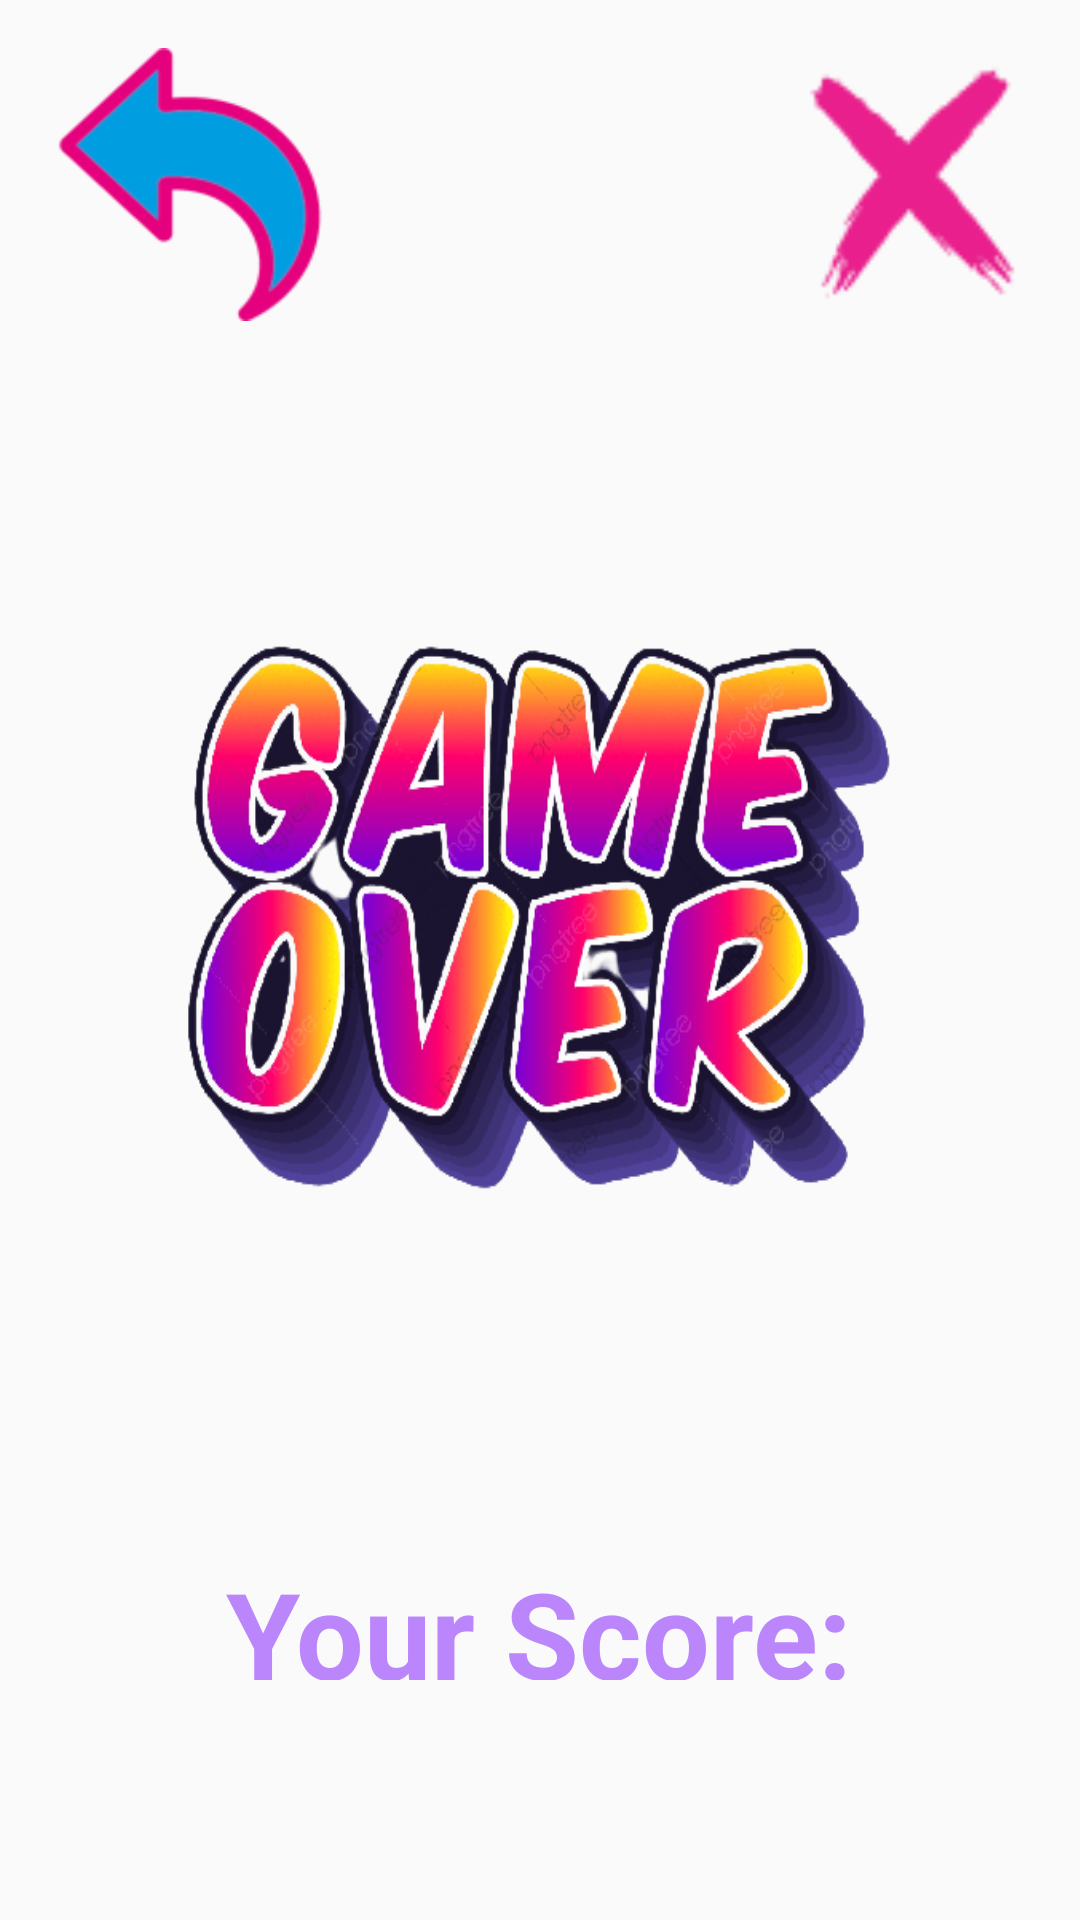

Named icons in this screenshot (1080 × 1920) and their centers, [x,y]:
exit: [912,183]
restart: [190,184]
